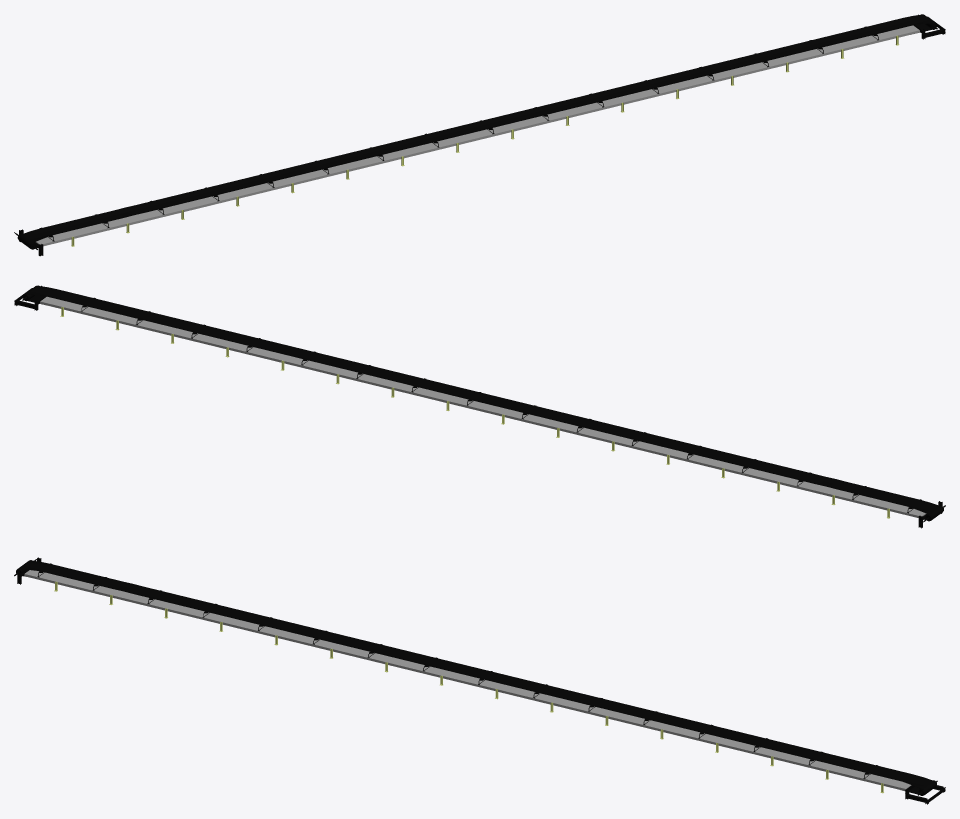
File: conveyor_belt_large_EXPORT.glb
The picture shows the model from 3 angles, top to bottom: view 1: azimuth 30°, elevation 25°; view 2: azimuth 150°, elevation 25°; view 3: azimuth 330°, elevation 25°; orthographic projection.
Parts seen in each view (by area): view 1: Solid1, CB_Large_Belt_Base, CB_Large_Belt_Pillars; view 2: Solid1, CB_Large_Belt_Base, CB_Large_Belt_Pillars; view 3: Solid1, CB_Large_Belt_Base, CB_Large_Belt_Pillars.
Part boxes in pixels (bbox=[...]): Solid1: bbox=[18, 14, 935, 248]; CB_Large_Belt_Base: bbox=[35, 25, 919, 246]; CB_Large_Belt_Pillars: bbox=[71, 35, 899, 246]; Solid1: bbox=[23, 285, 943, 520]; CB_Large_Belt_Base: bbox=[40, 296, 926, 517]; CB_Large_Belt_Pillars: bbox=[60, 307, 890, 518]; Solid1: bbox=[17, 560, 936, 795]; CB_Large_Belt_Base: bbox=[24, 570, 911, 790]; CB_Large_Belt_Pillars: bbox=[54, 581, 883, 793].
Bounding box in the file's own units: 6.95 × 0.0989 × 0.3071.
